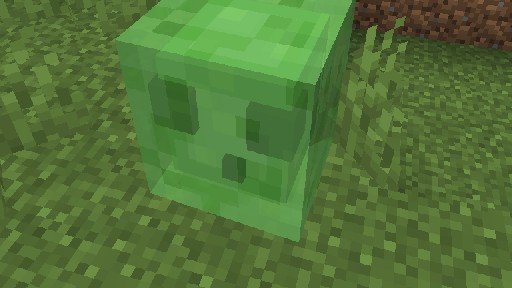slime: (114, 0, 358, 242)
